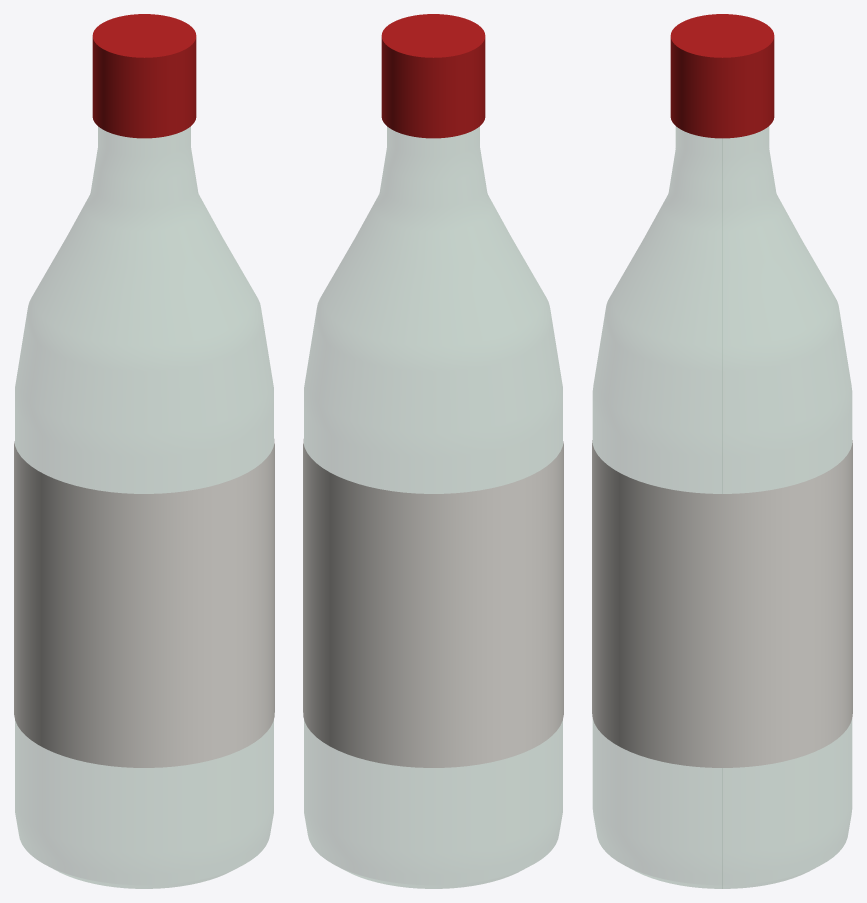
File: glass-bottle.glb
3 views of the same model, side by side, from view 1: azimuth 30°, elevation 25°; view 2: azimuth 150°, elevation 25°; view 3: azimuth 270°, elevation 25° (orthographic).
Visible parts, largest first — view 1: Glass, Label, Cap; view 2: Glass, Label, Cap; view 3: Glass, Label, Cap.
Part boxes in pixels (x1,y1,x2,y2): Glass: [15, 127, 273, 888]; Label: [14, 439, 274, 767]; Cap: [92, 14, 196, 138]; Glass: [304, 127, 562, 888]; Label: [303, 439, 563, 767]; Cap: [381, 14, 485, 138]; Glass: [593, 127, 851, 888]; Label: [592, 440, 852, 767]; Cap: [670, 14, 774, 138].
Size of the model in its own units: 0.0704 by 0.24 by 0.0704.
